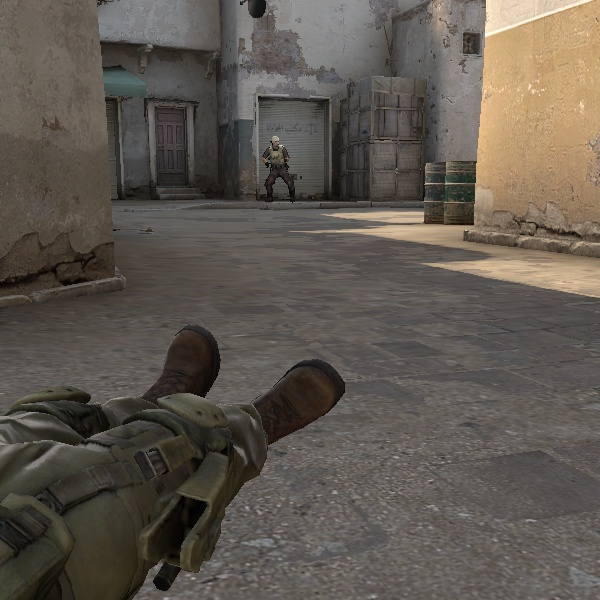t_body: (258, 134, 297, 203)
t_head: (268, 134, 286, 153)
